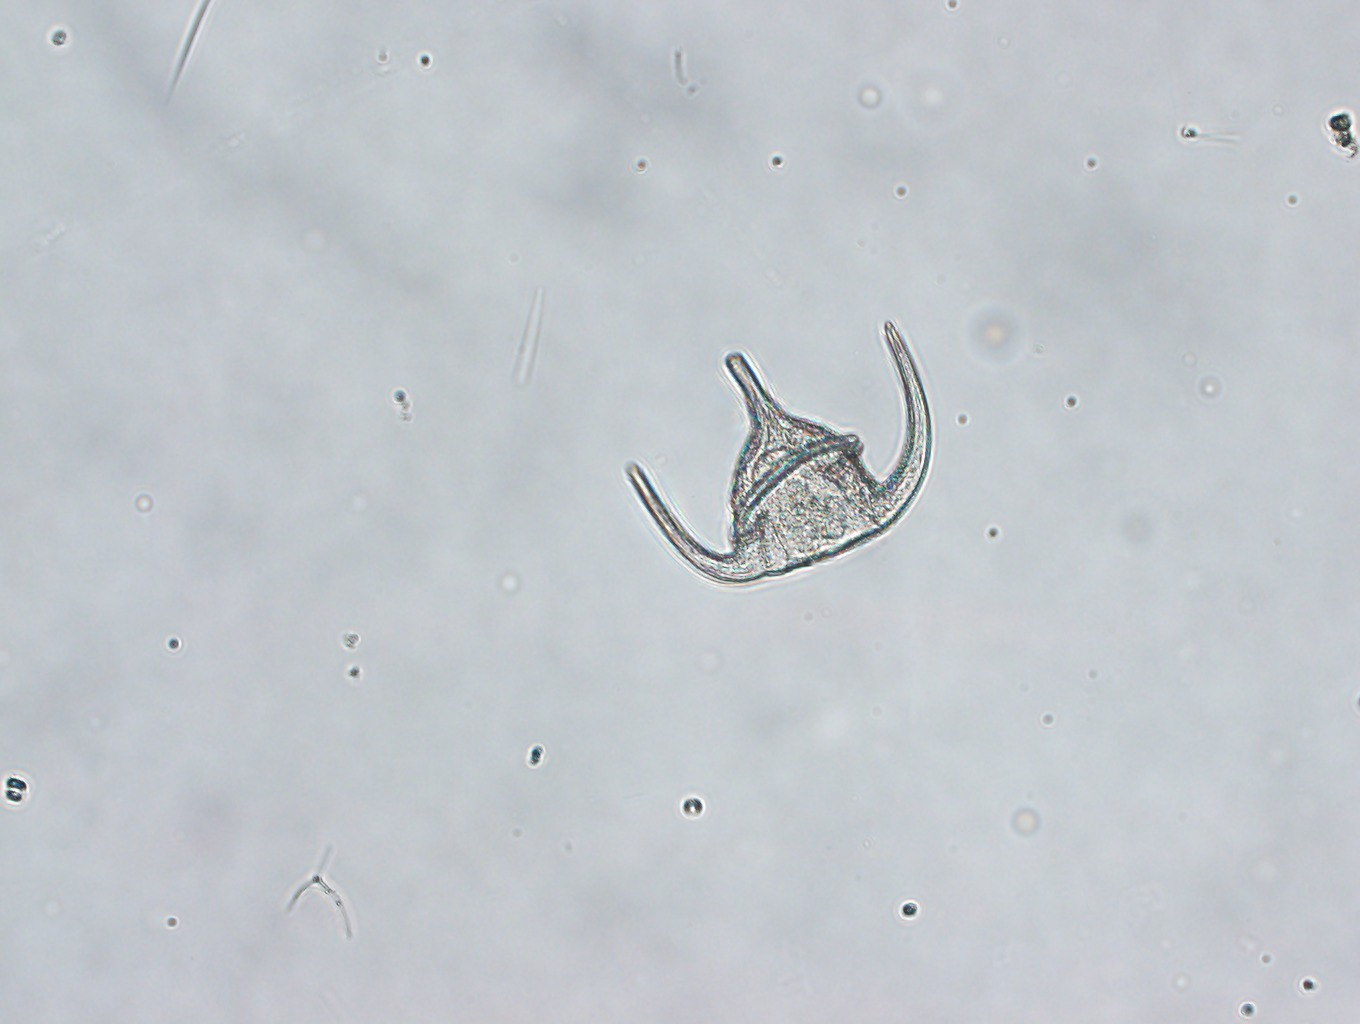ceratium tripos: (614, 315, 940, 595)
